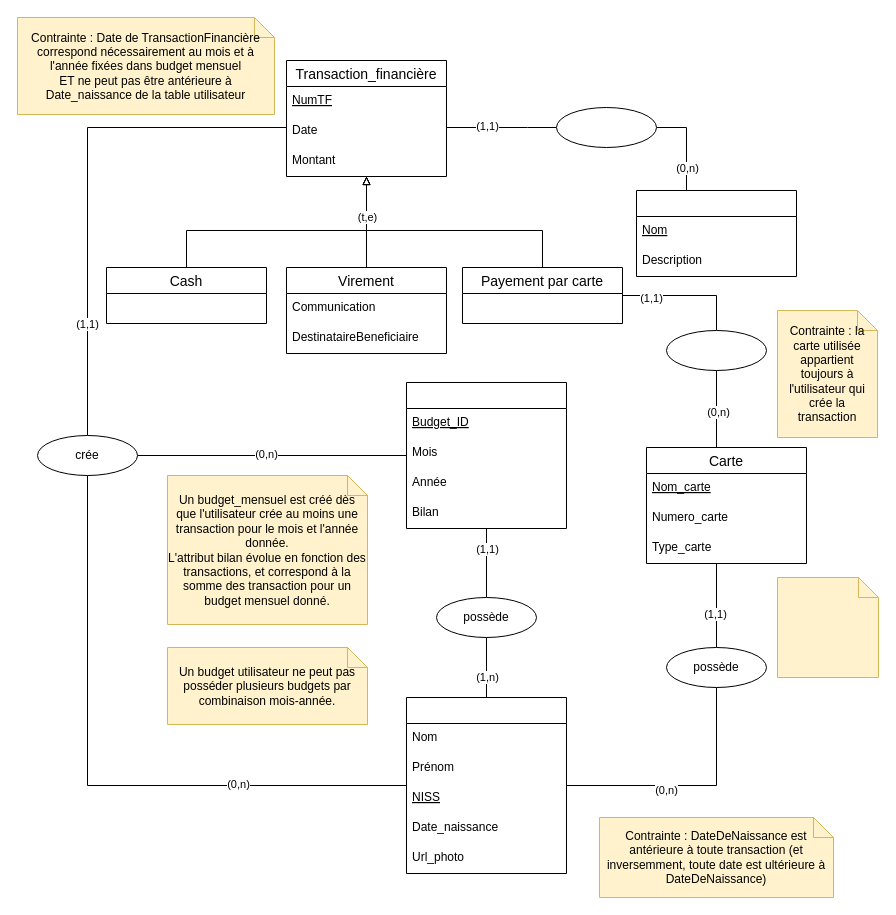
Some shapes in this 896 by 915 pixel diagram are drawn without their labels. The shapes that lost their labels are listed below. From the top down, each one's box as (x1, y1, x2, y2) in pixels, then its label:
(556, 106, 656, 148): est
(636, 190, 796, 276): CatégorieTF
(666, 330, 766, 370): utilise
(406, 382, 566, 528): Budget_Mensuel
(776, 576, 878, 678): Carte.Type_Carte = {Visa, Mastercard,Visa Prepaid, Maestro}
(406, 696, 566, 874): Utilisateur
